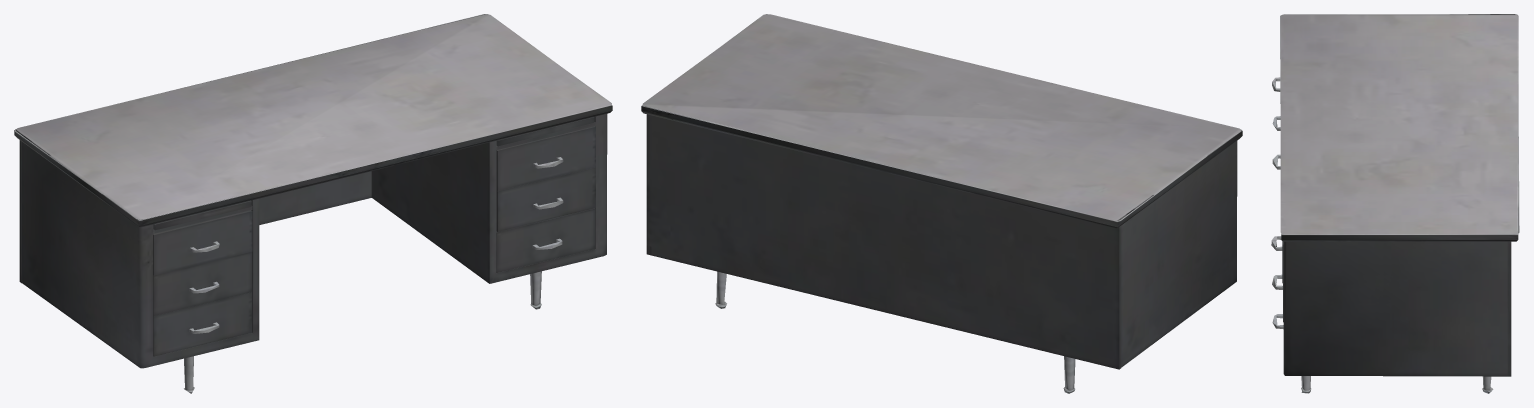
The model's file is metal_office_desk.glb.
The picture shows the model from 3 angles, left to right: view 1: azimuth 30°, elevation 25°; view 2: azimuth 150°, elevation 25°; view 3: azimuth 270°, elevation 25°; orthographic projection. The views are drawn at different scales.
Visible parts, largest first — view 1: metal_office_desk_drawer_06; view 2: metal_office_desk_drawer_06; view 3: metal_office_desk_drawer_06.
Part boxes in pixels (x1,y1,x2,y2): metal_office_desk_drawer_06: (14, 14, 612, 393); metal_office_desk_drawer_06: (641, 14, 1242, 393); metal_office_desk_drawer_06: (1271, 14, 1519, 393).
Bounding box in the file's own units: 1.99 × 0.7868 × 0.9449.
Materials: 1 (1 with a texture image).
